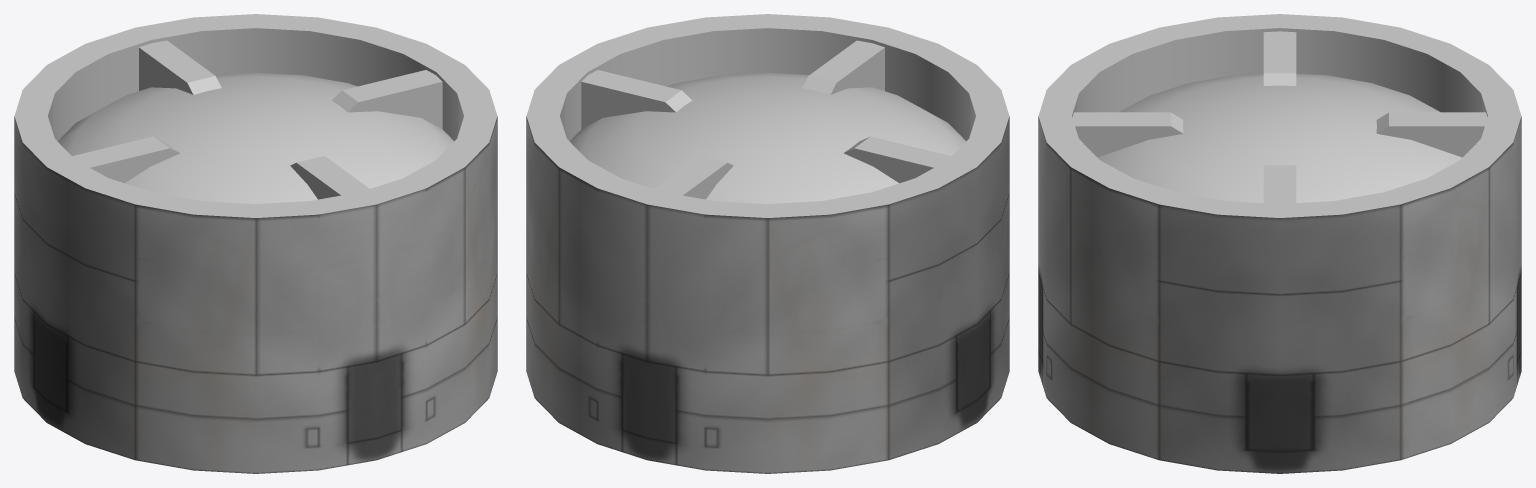
File: Transtage_Tank.dae
3 renders of one model, left to right at view 1: azimuth 30°, elevation 25°; view 2: azimuth 150°, elevation 25°; view 3: azimuth 270°, elevation 25°, orthographic.
Visible parts, largest first — view 1: Transtage_Tank_Tank, TankTopper1; view 2: Transtage_Tank_Tank, TankTopper1; view 3: Transtage_Tank_Tank, TankTopper1.
Boxes of the visible parts, box(x1,y1,x2,y2) form: Transtage_Tank_Tank: box(14, 116, 497, 473); TankTopper1: box(14, 14, 497, 217); Transtage_Tank_Tank: box(526, 116, 1009, 473); TankTopper1: box(526, 14, 1009, 217); Transtage_Tank_Tank: box(1038, 116, 1521, 473); TankTopper1: box(1038, 14, 1521, 217).
Bounding box in the file's own units: 1.88 × 1.1 × 1.88.
